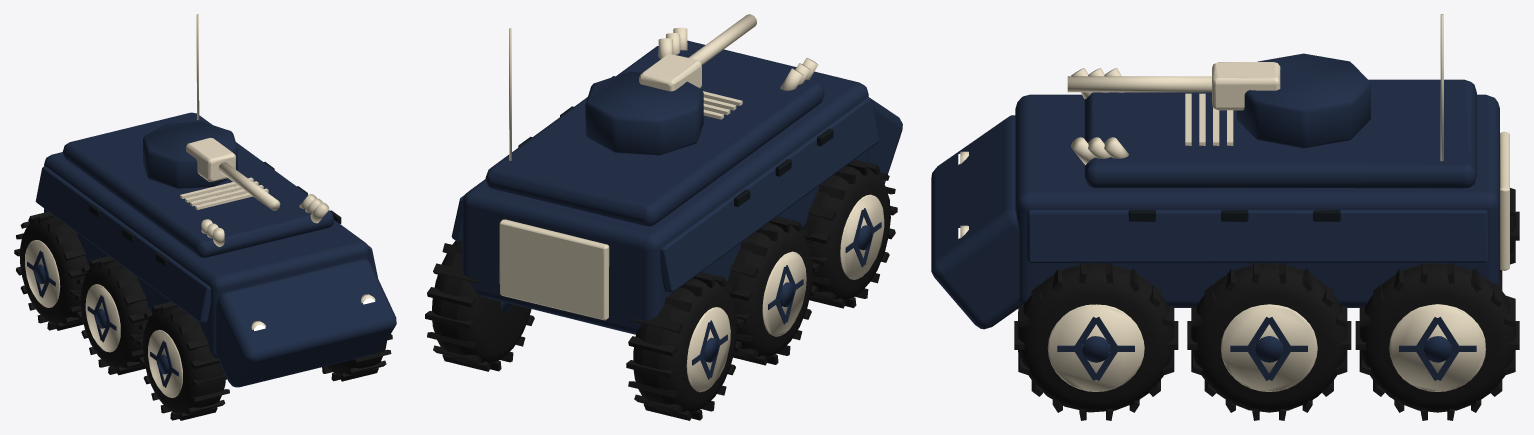
The model's file is apc_hellerup.glb.
3 views of the same model, side by side, from view 1: azimuth 30°, elevation 25°; view 2: azimuth 150°, elevation 25°; view 3: azimuth 270°, elevation 25° (orthographic). The views are drawn at different scales.
Visible parts, largest first — view 1: krop_net; view 2: krop_net; view 3: krop_net.
Boxes of the visible parts, x1,y1,x2,y2 form: krop_net: [14, 14, 396, 420]; krop_net: [425, 14, 902, 420]; krop_net: [931, 14, 1519, 420].
Bounding box in the file's own units: 1.21 × 1.54 × 2.17.
